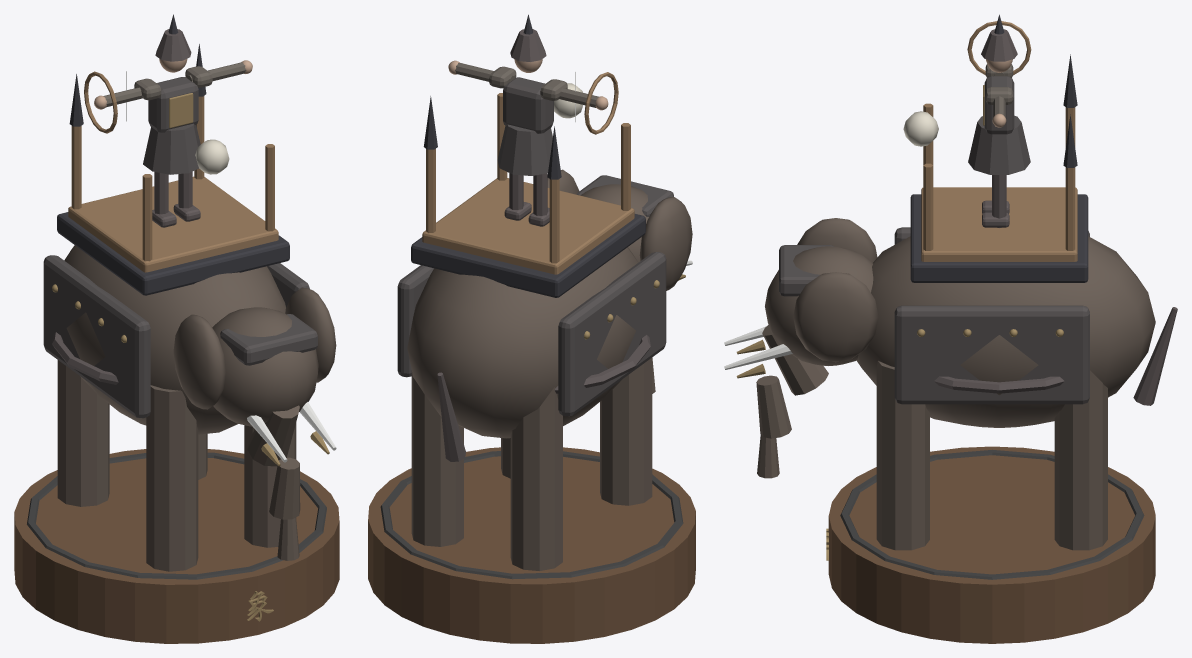
Rendered from elephant_black.glb.
3 renders of one model, left to right at view 1: azimuth 30°, elevation 25°; view 2: azimuth 150°, elevation 25°; view 3: azimuth 270°, elevation 25°, orthographic.
Visible parts, largest first — view 1: base, e_body, e_tower_floor, e_leg_-0.16_-0.25, e_armor_side_-1, e_head, e_leg_-0.16_0.25, e_howdah_pad, e_ear_-1, base_trim_top, e_leg_0.16_-0.25, e_armor_brow (+20 smaller); view 2: base, e_body, e_tower_floor, e_armor_side_-1, e_leg_-0.16_0.25, e_leg_-0.16_-0.25, e_leg_0.16_0.25, e_howdah_pad, base_trim_top, e_ear_-1, e_archer_skirt, e_archer_cuirass (+14 smaller); view 3: base, e_body, e_armor_side_1, e_tower_floor, e_leg_0.16_-0.25, e_leg_0.16_0.25, e_ear_1, e_howdah_pad, e_head, base_trim_top, e_archer_skirt, e_ear_-1 (+13 smaller).
Boxes of the visible parts, x1,y1,x2,y2 form: base: [14, 449, 339, 643]; e_body: [64, 245, 285, 434]; e_tower_floor: [68, 176, 278, 272]; e_leg_-0.16_-0.25: [146, 385, 198, 571]; e_armor_side_-1: [43, 255, 150, 418]; e_head: [212, 307, 318, 426]; e_leg_-0.16_0.25: [57, 360, 109, 506]; e_howdah_pad: [57, 212, 289, 295]; e_ear_-1: [173, 314, 225, 409]; base_trim_top: [27, 452, 326, 579]; e_leg_0.16_-0.25: [244, 423, 296, 547]; e_armor_brow: [220, 314, 317, 365]; base: [368, 447, 695, 643]; e_body: [407, 247, 638, 438]; e_tower_floor: [422, 178, 634, 274]; e_armor_side_-1: [558, 252, 666, 416]; e_leg_-0.16_0.25: [510, 387, 562, 570]; e_leg_-0.16_-0.25: [600, 357, 652, 505]; e_leg_0.16_0.25: [411, 370, 463, 546]; e_howdah_pad: [411, 214, 645, 297]; base_trim_top: [380, 451, 683, 579]; e_ear_-1: [639, 197, 692, 290]; e_archer_skirt: [497, 124, 552, 175]; e_archer_cuirass: [503, 77, 553, 133]; base: [828, 446, 1155, 643]; e_body: [856, 236, 1155, 427]; e_armor_side_1: [894, 305, 1089, 404]; e_tower_floor: [921, 187, 1077, 261]; e_leg_0.16_-0.25: [876, 361, 929, 550]; e_leg_0.16_0.25: [1054, 370, 1107, 550]; e_ear_1: [793, 272, 878, 362]; e_howdah_pad: [910, 194, 1088, 282]; e_head: [765, 246, 873, 365]; base_trim_top: [840, 449, 1144, 579]; e_archer_skirt: [968, 115, 1030, 174]; e_ear_-1: [797, 218, 877, 262].
Size of the model in its own units: 0.92 by 1.74 by 1.28.
